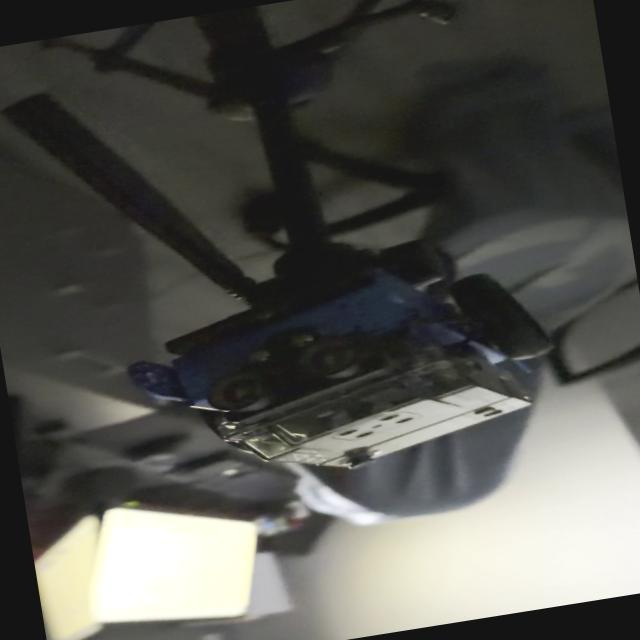mbot-detection: (111, 231, 579, 508)
